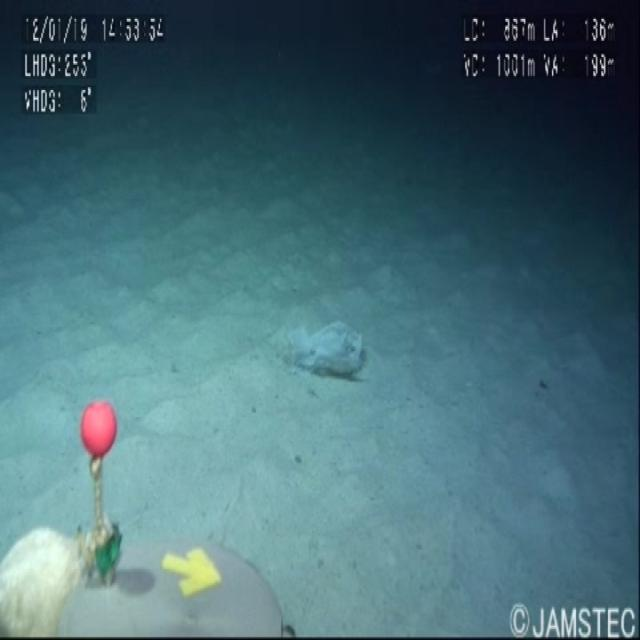Plastic: (283, 297, 394, 430)
